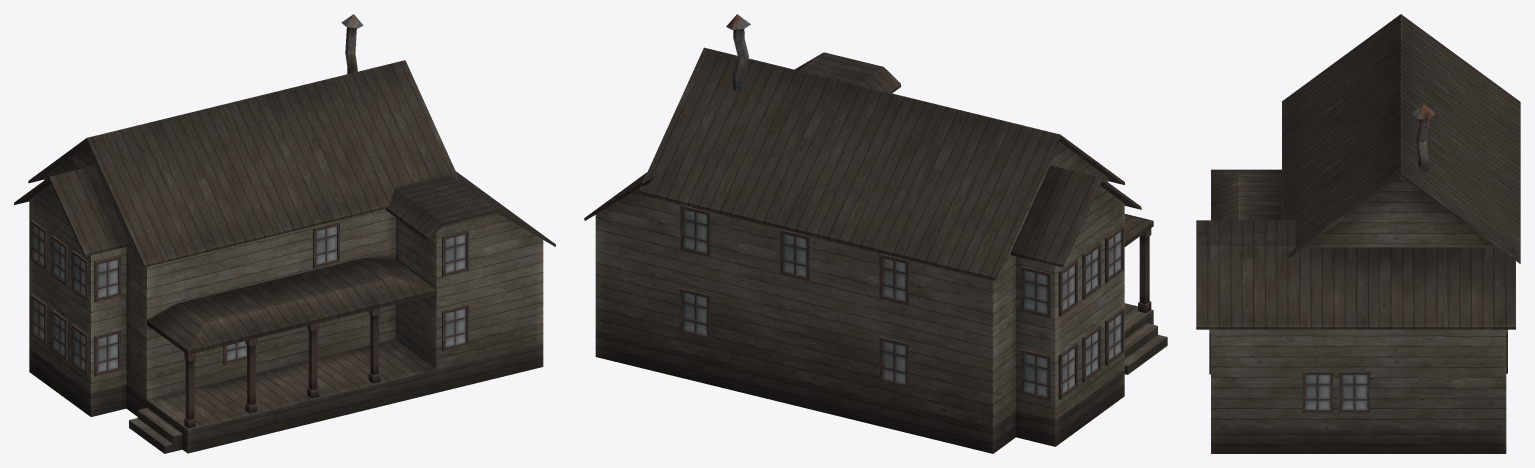
File: House.fbx
The picture shows the model from 3 angles, left to right: view 1: azimuth 30°, elevation 25°; view 2: azimuth 150°, elevation 25°; view 3: azimuth 270°, elevation 25°; orthographic projection. The views are drawn at different scales.
Visible parts, largest first — view 1: House.001; view 2: House.001; view 3: House.001.
Boxes of the visible parts, x1=… form: House.001: x1=14, y1=14, x2=555, y2=453; House.001: x1=584, y1=14, x2=1167, y2=453; House.001: x1=1196, y1=14, x2=1520, y2=453.
Bounding box in the file's own units: 1717 × 1202 × 1152.
